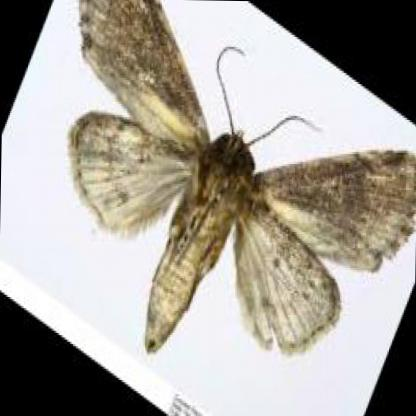Leaf Webber: (68, 0, 414, 360)
